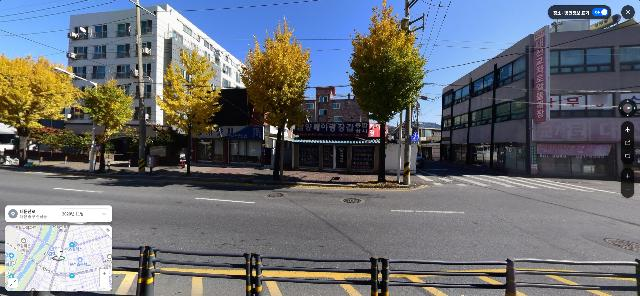ginkgo: (346, 0, 430, 184), (237, 16, 314, 181), (0, 54, 83, 168), (154, 48, 223, 176)
other: (72, 79, 135, 172)
